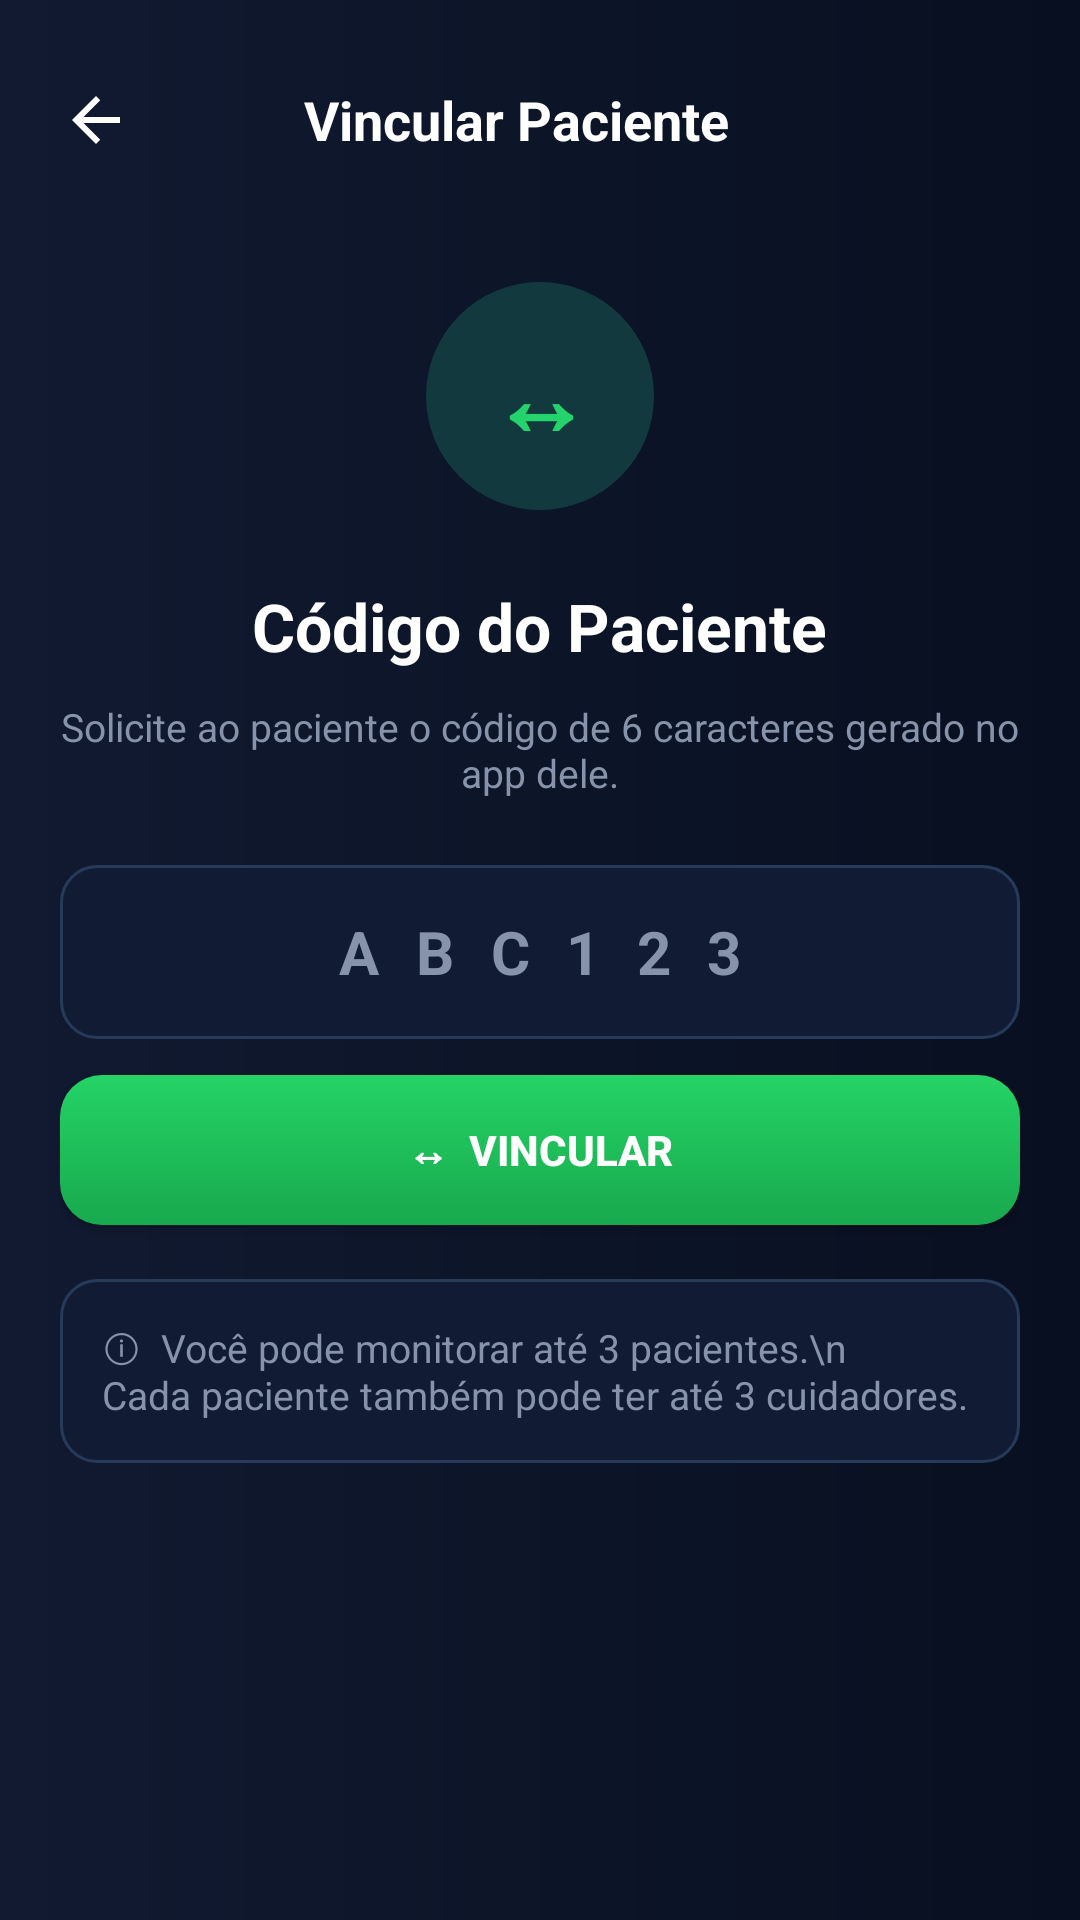

Icon click points for this 1080*1920 phone screenshot, format point (x, y):
login back: point (96, 120)
